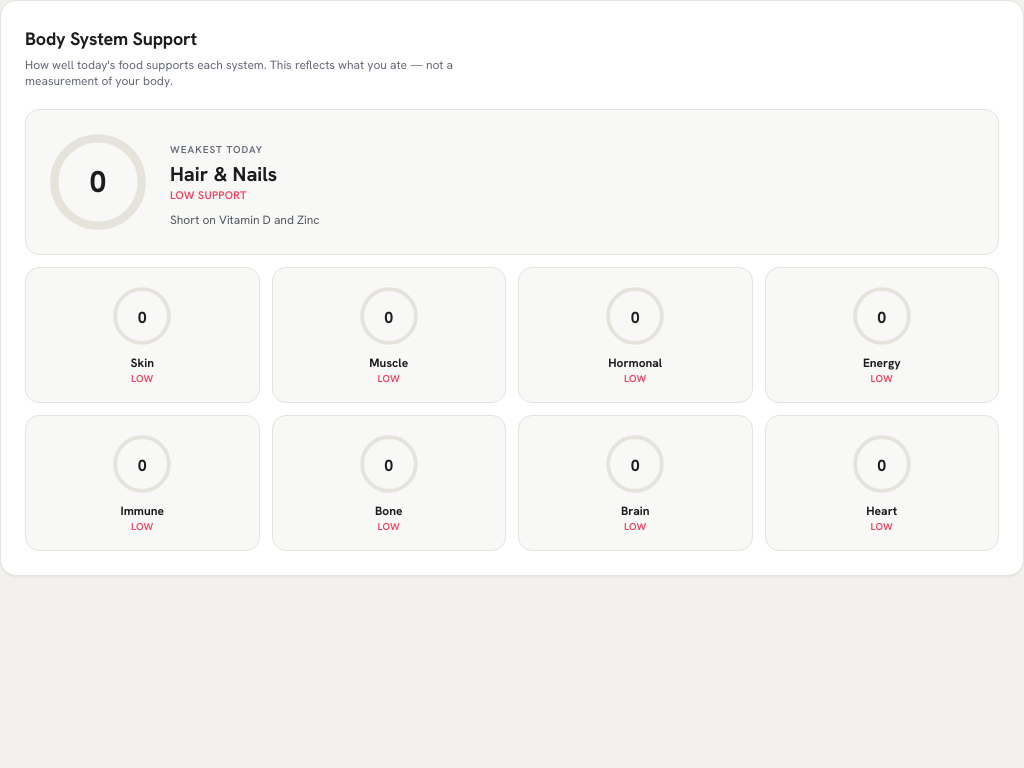
Test case: BodySystems — drill-in › lists the contributing nutrients
The width and height of the screenshot is (1024, 768).
Click the button with aria-label "Bone support" at (389, 483), box [272,415,506,551]
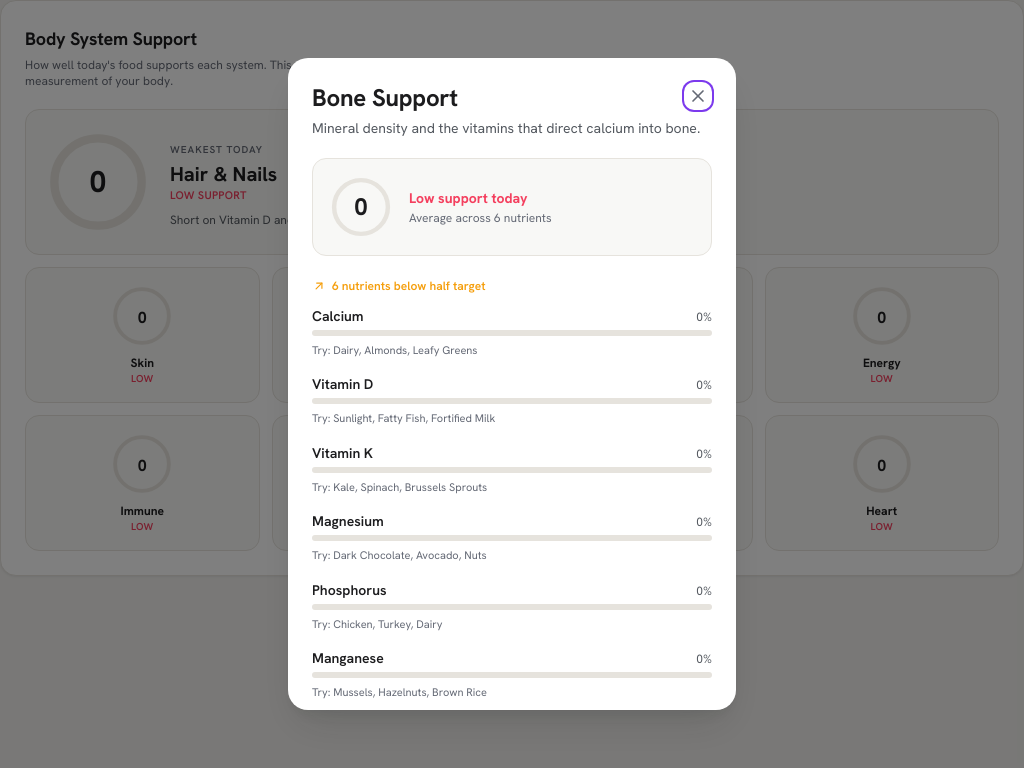
Result: the text "Calcium" is shown at [312,306,364,326]
Result: the text "Vitamin D" is shown at [312,374,373,394]
Result: the text "Vitamin K" is shown at [312,443,373,463]
